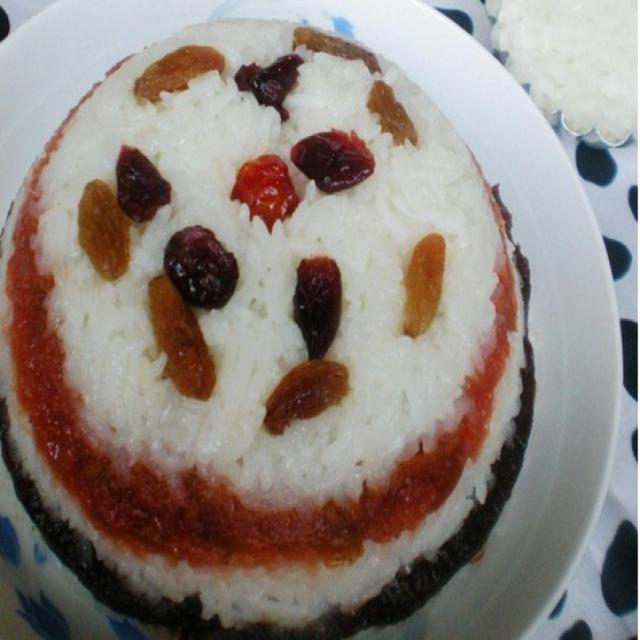米饭主食: (4, 16, 571, 634)
